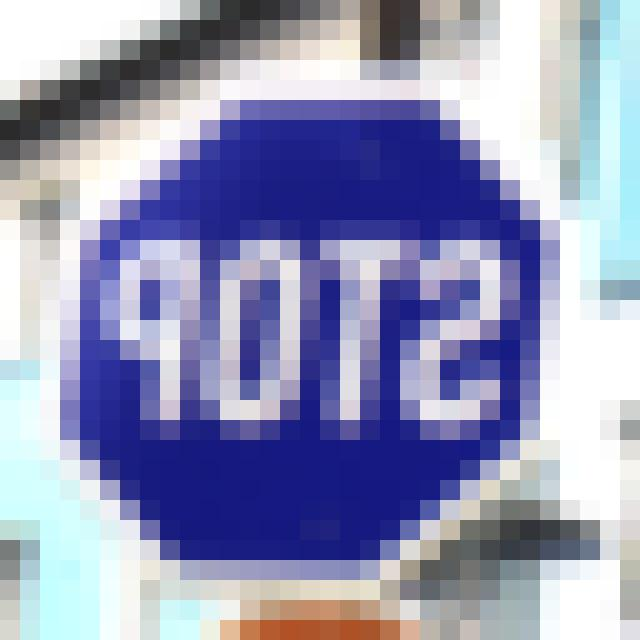STOP: (58, 84, 568, 572)
